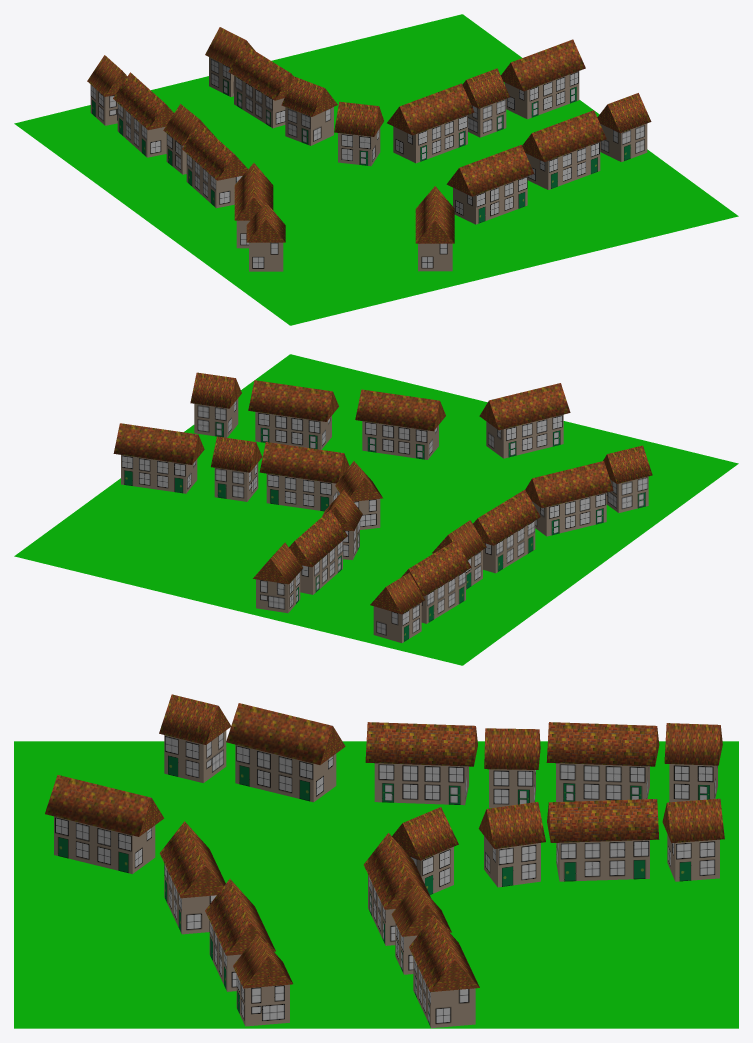
File: village1.glb
The picture shows the model from 3 angles, top to bottom: view 1: azimuth 30°, elevation 25°; view 2: azimuth 150°, elevation 25°; view 3: azimuth 270°, elevation 25°; orthographic projection. The views are drawn at different scales.
Parts seen in each view (by area): view 1: ground, box_merged_primitive1 (×2), box_merged_primitive0 (×2), house6_primitive1, house2_primitive1, house4_primitive1, house6_primitive0, house2_primitive0, house4_primitive0, house9_primitive1, house11_primitive1, house3_primitive1 (+20 smaller); view 2: ground, box_merged_primitive1 (×2), box_merged_primitive0 (×2), house2_primitive1, house4_primitive1, house6_primitive1, house3_primitive1, house15_primitive1, house3_primitive0, house2_primitive0, house4_primitive0, house15_primitive0 (+19 smaller); view 3: ground, box_merged_primitive1 (×2), house13_primitive1, house11_primitive1, house9_primitive1, house3_primitive1, house15_primitive1, house15_primitive0, house3_primitive0, house11_primitive0, house9_primitive0, house13_primitive0 (+21 smaller).
Boxes of the visible parts, x1,y1,x2,y2 form: ground: (14, 14, 738, 325); box_merged_primitive1 (×2): (522, 93, 651, 161); box_merged_primitive0 (×2): (525, 123, 647, 189); house6_primitive1: (387, 83, 474, 135); house2_primitive1: (446, 144, 534, 196); house4_primitive1: (501, 39, 585, 91); house6_primitive0: (393, 115, 467, 163); house2_primitive0: (453, 176, 527, 224); house4_primitive0: (504, 71, 579, 119); house9_primitive1: (228, 44, 293, 100); house11_primitive1: (182, 123, 248, 180); house3_primitive1: (415, 186, 454, 243); ground: (14, 354, 738, 665); box_merged_primitive1 (×2): (190, 372, 338, 421); box_merged_primitive0 (×2): (194, 398, 331, 449); house2_primitive1: (355, 389, 445, 431); house4_primitive1: (113, 423, 204, 464); house6_primitive1: (259, 442, 349, 483); house3_primitive1: (479, 383, 570, 430); house15_primitive1: (525, 461, 613, 508); house3_primitive0: (486, 414, 563, 458); house2_primitive0: (362, 421, 438, 459); house4_primitive0: (121, 455, 197, 493); house15_primitive0: (532, 492, 606, 536); ground: (14, 741, 738, 1028); box_merged_primitive1 (×2): (205, 879, 292, 988); house13_primitive1: (546, 722, 659, 766); house11_primitive1: (365, 722, 477, 766); house9_primitive1: (547, 799, 659, 842); house3_primitive1: (45, 775, 164, 836); house15_primitive1: (226, 703, 345, 764); house15_primitive0: (235, 744, 336, 802); house3_primitive0: (54, 816, 155, 873); house11_primitive0: (374, 763, 468, 805); house9_primitive0: (556, 840, 649, 881); house13_primitive0: (556, 763, 649, 801).
Size of the model in its own units: 15.19 by 1.71 by 16.
5 materials, 4 textured.
